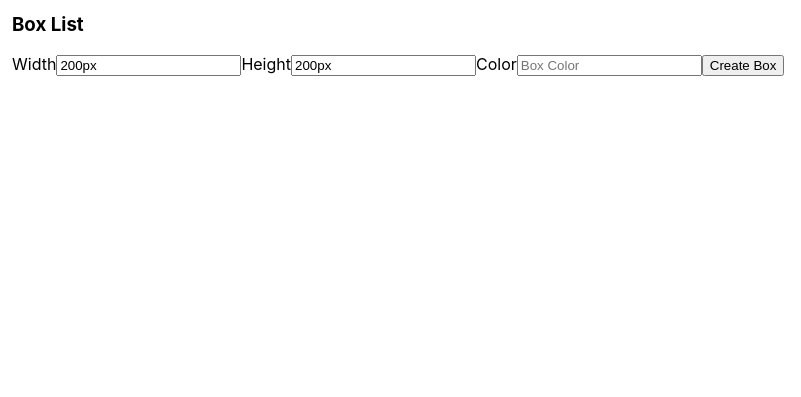
should make a new box
Replace the text in the field labelled "Width" with "300px". click: (149, 66)
box: left=56, top=55, right=241, bottom=76
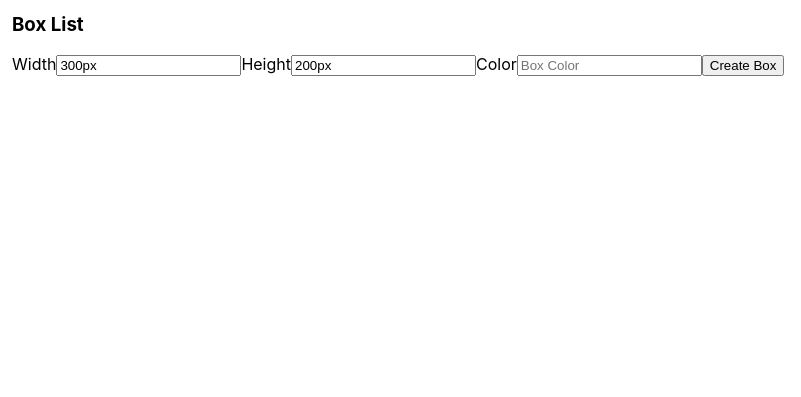
Replace the text in the field labelled "Height" with "300px". click: (384, 66)
box: left=291, top=55, right=476, bottom=76
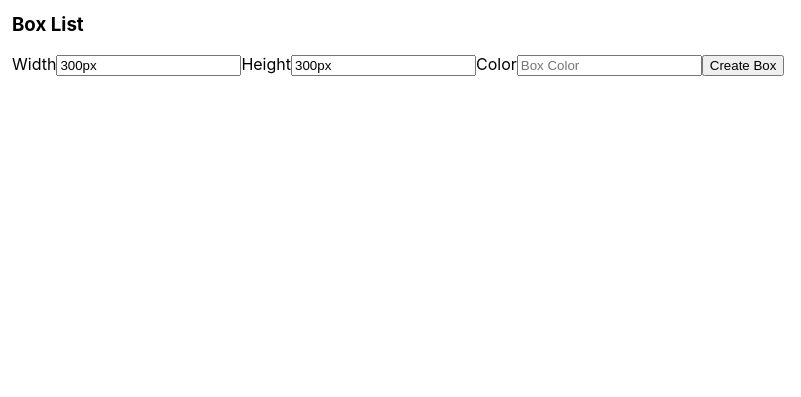
Type "blue" into the field labelled "Color". click: (609, 66)
box: left=517, top=55, right=702, bottom=76
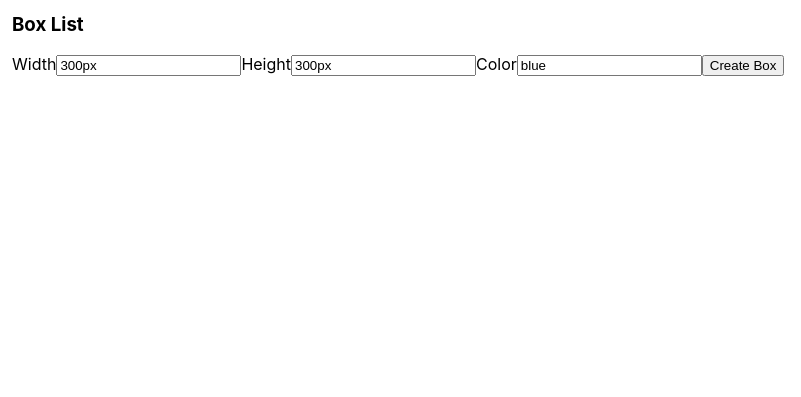
Click the button "Create Box". click: (743, 66)
box: left=702, top=55, right=784, bottom=76
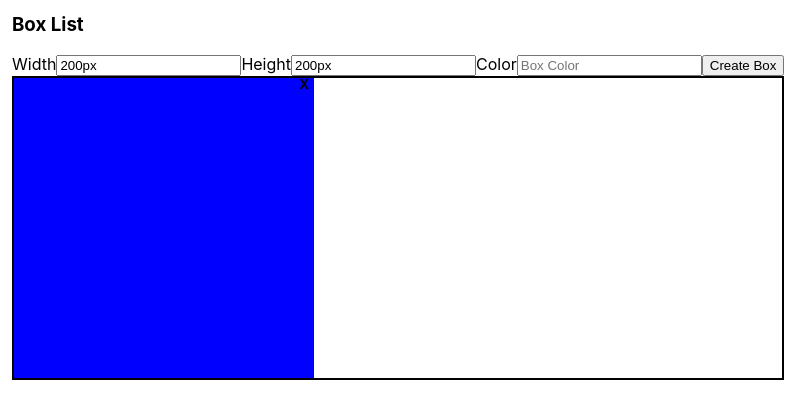
Expected: the element with test id "BoxList" is shown
Expected: the element with test id "Box0" is shown, left=14, top=78, right=314, bottom=378
